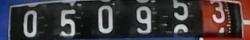digits: (59, 8, 76, 36), (135, 5, 151, 33), (97, 4, 113, 32), (23, 10, 37, 36), (172, 0, 188, 20), (211, 1, 225, 22)
